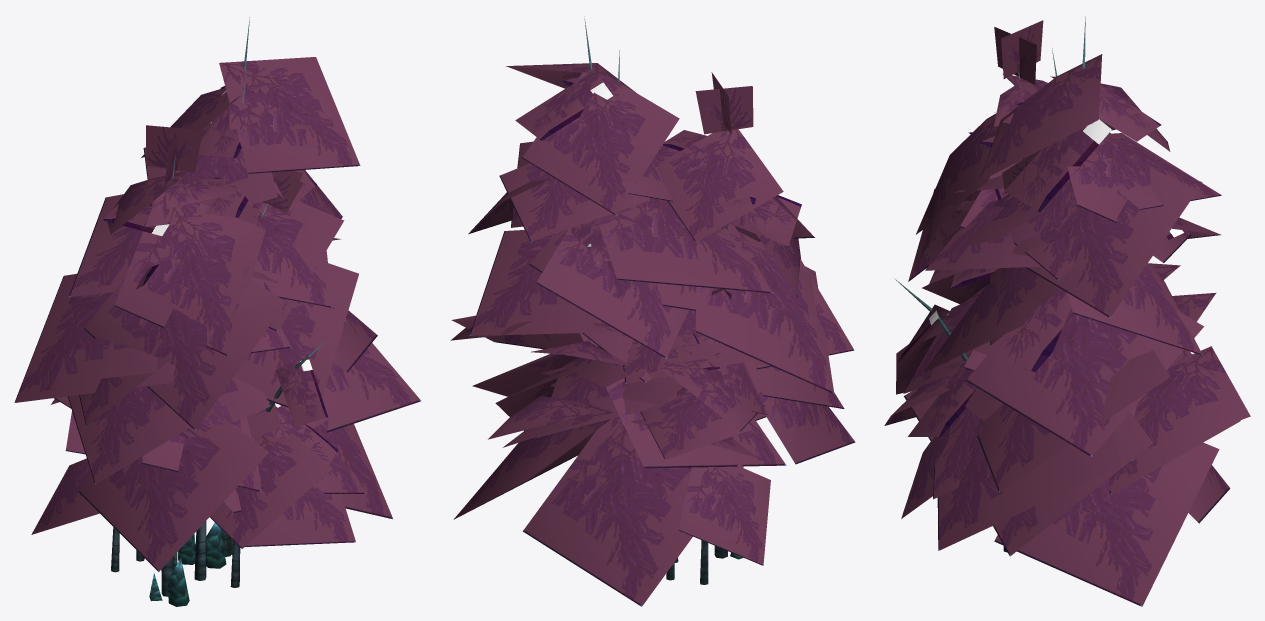
Rendered from ZZL_Item_06.FBX.
3 renders of one model, left to right at view 1: azimuth 30°, elevation 25°; view 2: azimuth 150°, elevation 25°; view 3: azimuth 270°, elevation 25°, orthographic. The views are drawn at different scales.
Parts seen in each view (by area): view 1: ZZL_Item_06; view 2: ZZL_Item_06; view 3: ZZL_Item_06.
Part boxes in pixels (x1,y1,x2,y2): ZZL_Item_06: (14, 17, 421, 606); ZZL_Item_06: (450, 16, 855, 606); ZZL_Item_06: (884, 16, 1250, 606).
Bounding box in the file's own units: 617 × 842 × 496.
